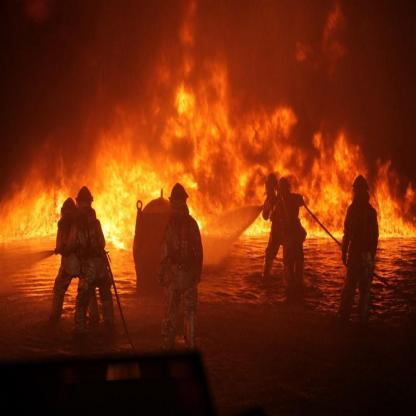fire: (15, 80, 410, 245)
